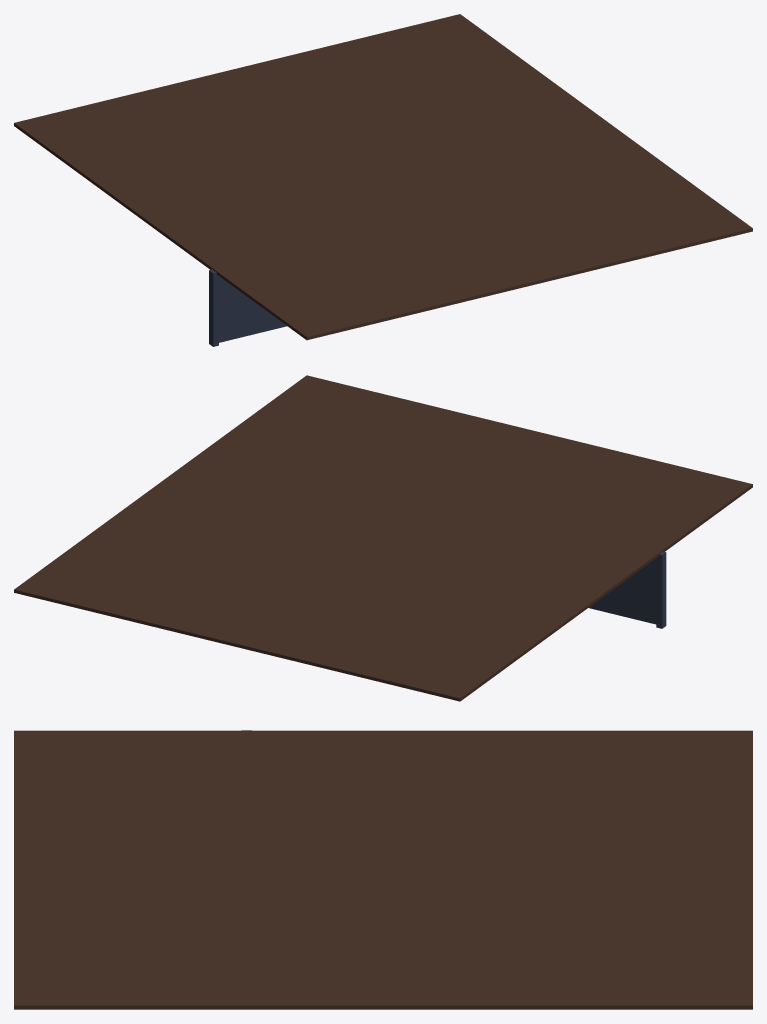
Rendered from sun-shadow-casters.glb.
3 views of the same model, one above another, from view 1: azimuth 30°, elevation 25°; view 2: azimuth 150°, elevation 25°; view 3: azimuth 270°, elevation 25° (orthographic). The views are drawn at different scales.
Visible parts, largest first — view 1: SunRoof, Front west shadow wall, Southwest sunlight stop; view 2: SunRoof, Front west shadow wall, Southwest sunlight stop; view 3: SunRoof.
Part boxes in pixels (<box>): SunRoof: <box>14,14,752,340</box>; Front west shadow wall: <box>219,276,286,342</box>; Southwest sunlight stop: <box>209,269,218,346</box>; SunRoof: <box>14,375,752,701</box>; Front west shadow wall: <box>588,558,656,624</box>; Southwest sunlight stop: <box>656,551,666,628</box>; SunRoof: <box>14,730,752,1009</box>.
Size of the model in its own units: 22.17 by 3.53 by 25.
